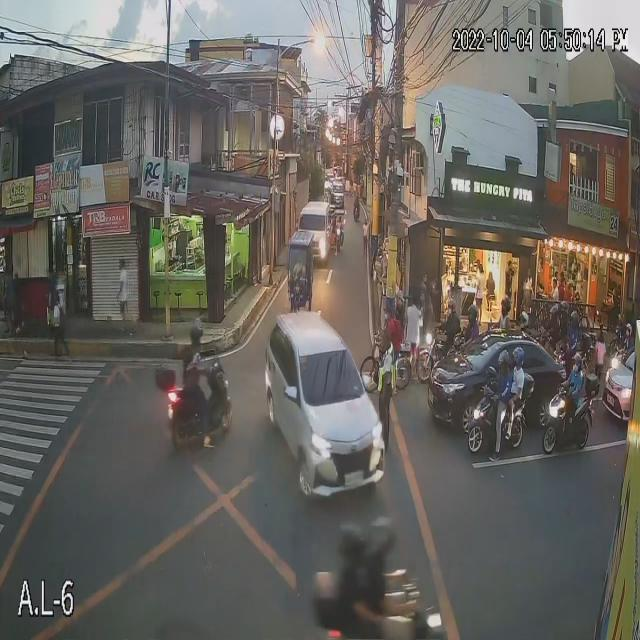helmet: (363, 516, 398, 560), (338, 522, 365, 568), (186, 321, 206, 352), (510, 345, 531, 373), (563, 351, 581, 380), (496, 351, 509, 377), (466, 307, 481, 323), (548, 306, 560, 324), (444, 297, 456, 315), (519, 310, 530, 328), (500, 295, 511, 312), (560, 301, 570, 319), (569, 312, 581, 326), (625, 321, 632, 339)
motorcycle: (162, 359, 231, 456), (319, 593, 449, 640), (464, 379, 533, 457), (541, 377, 600, 455), (417, 327, 458, 380), (603, 348, 629, 376)
rider: (365, 512, 408, 609), (178, 312, 215, 400), (328, 524, 368, 603), (490, 349, 512, 429), (506, 347, 534, 408), (561, 349, 587, 410), (439, 297, 460, 340), (462, 301, 484, 338), (494, 295, 515, 331), (567, 310, 584, 344), (547, 304, 562, 341), (558, 297, 573, 333), (514, 310, 532, 339), (623, 321, 634, 353)
